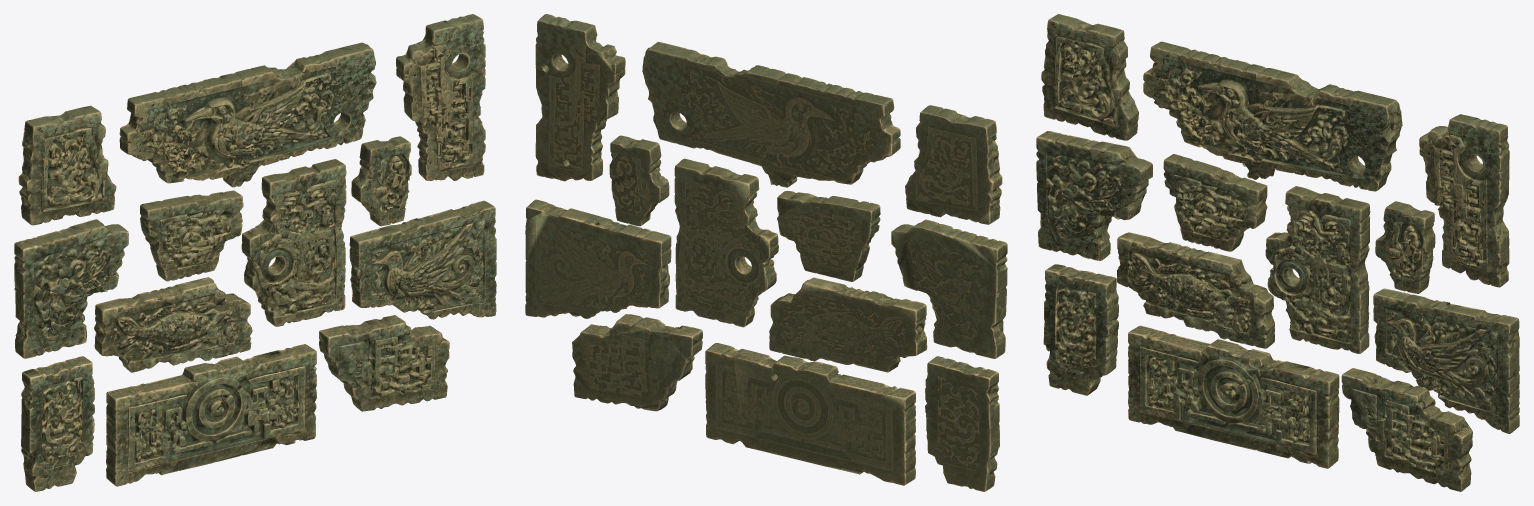
The model's file is 13-bronze-fragment.glb.
3 renders of one model, left to right at view 1: azimuth 30°, elevation 25°; view 2: azimuth 150°, elevation 25°; view 3: azimuth 330°, elevation 25°, orthographic.
Visible parts, largest first — view 1: mesh_node; view 2: mesh_node; view 3: mesh_node.
Boxes of the visible parts, left/top/right/bottom form: mesh_node: left=14, top=14, right=496, bottom=491; mesh_node: left=525, top=14, right=1007, bottom=491; mesh_node: left=1036, top=14, right=1519, bottom=491.
Size of the model in its own units: 1.9 by 1.46 by 0.1022.
Materials: 1 (1 with a texture image).
